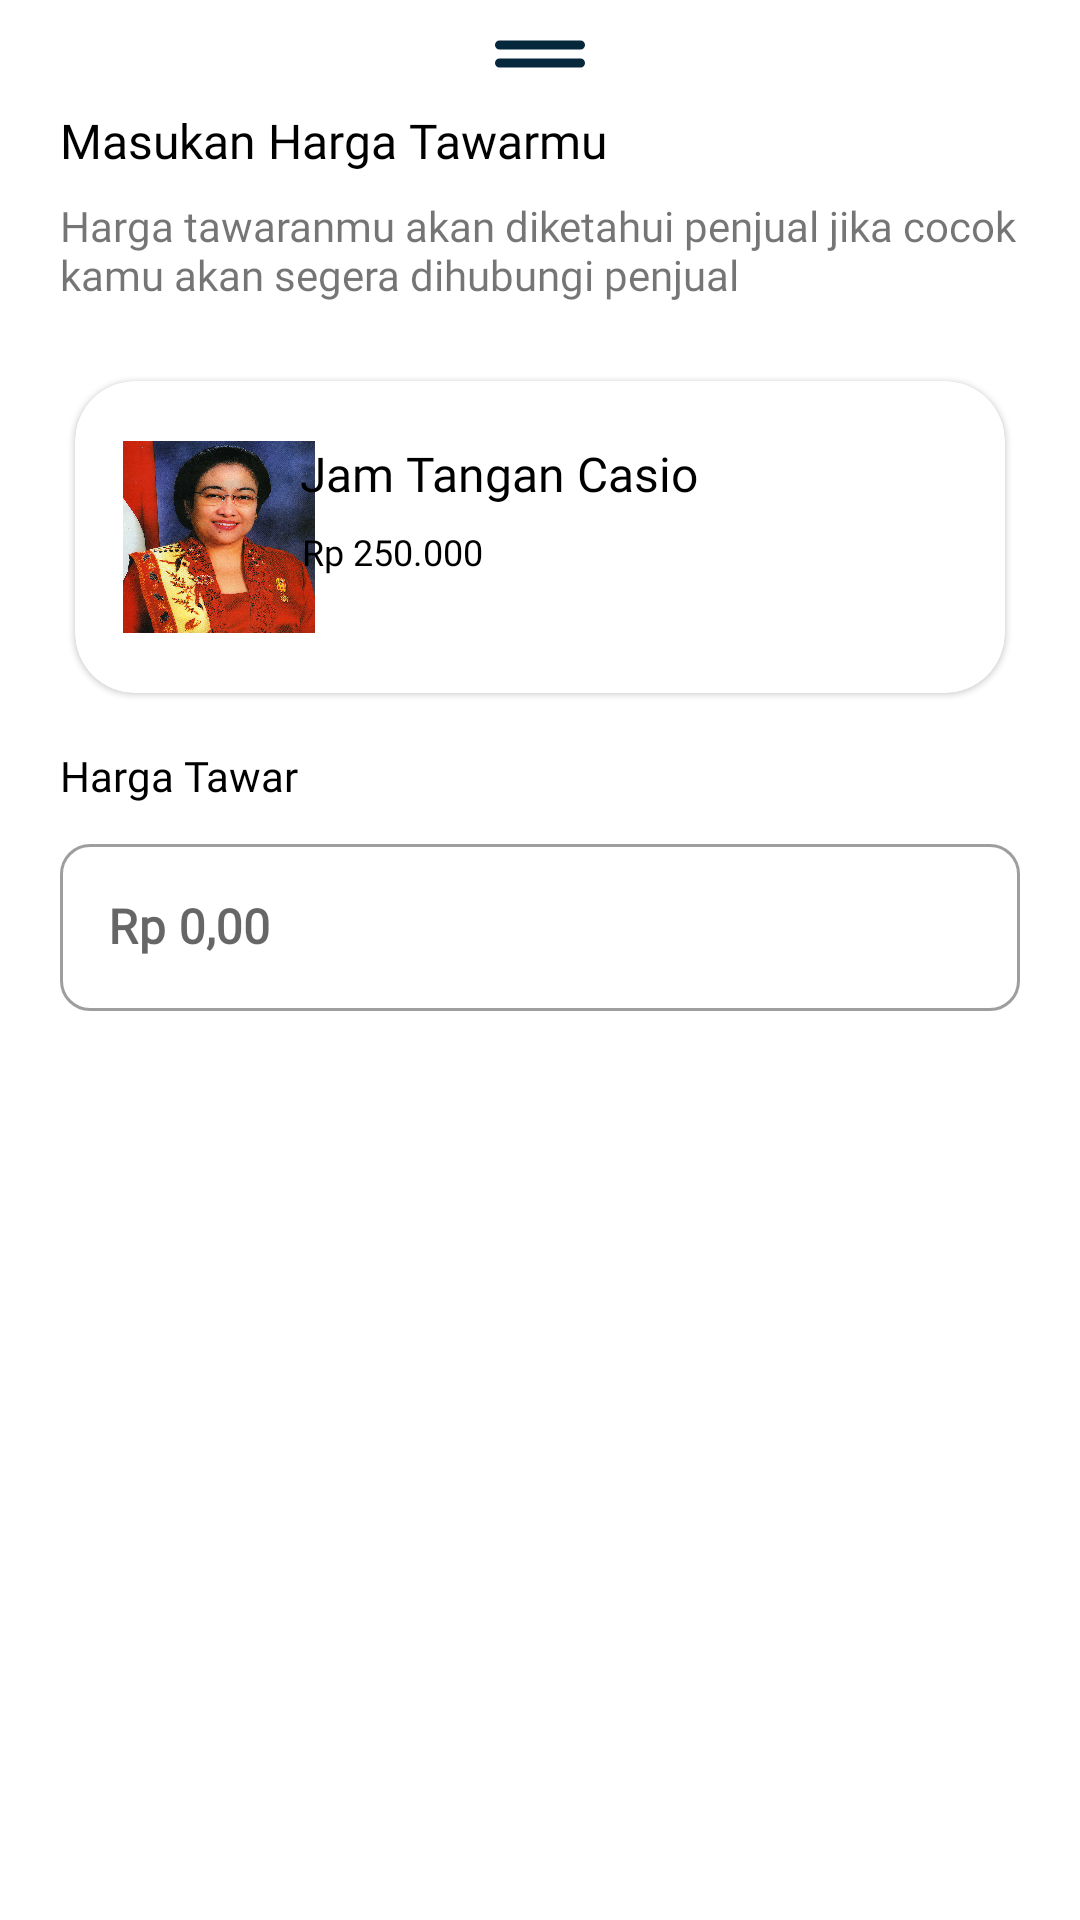

Locate icon controls on the screen. Image size 1080 × 1920, boxes as (x1, y1, x2, y2).
separator bottom sheet: (495, 40, 585, 68)
